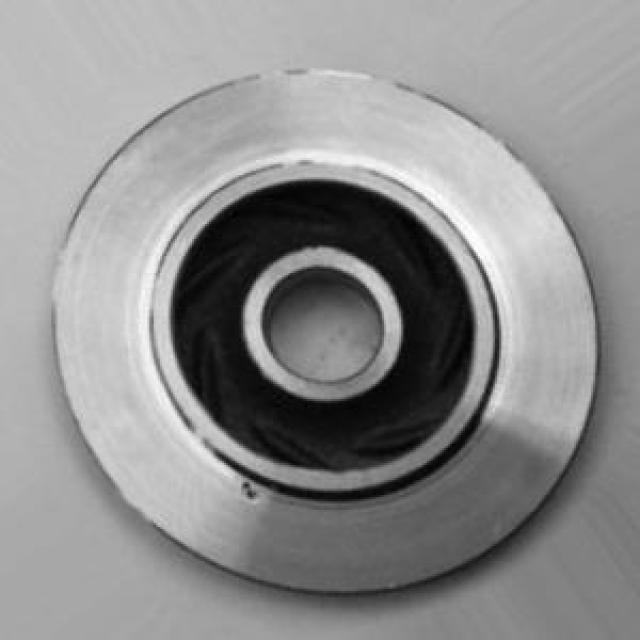Defect: (233, 475, 255, 503)
